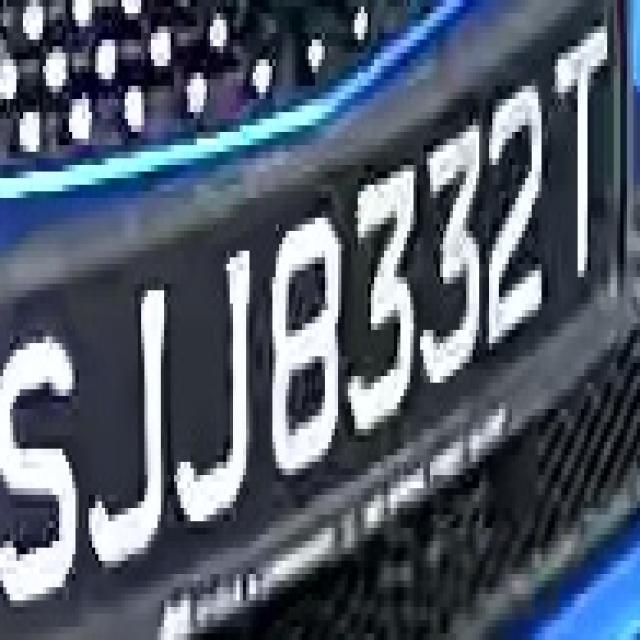2: (476, 79, 558, 356)
3: (344, 158, 426, 436), (414, 145, 496, 383)
8: (262, 198, 358, 501)
J: (86, 284, 180, 574), (177, 218, 263, 534)
S: (13, 304, 82, 634)
T: (545, 33, 614, 277)
